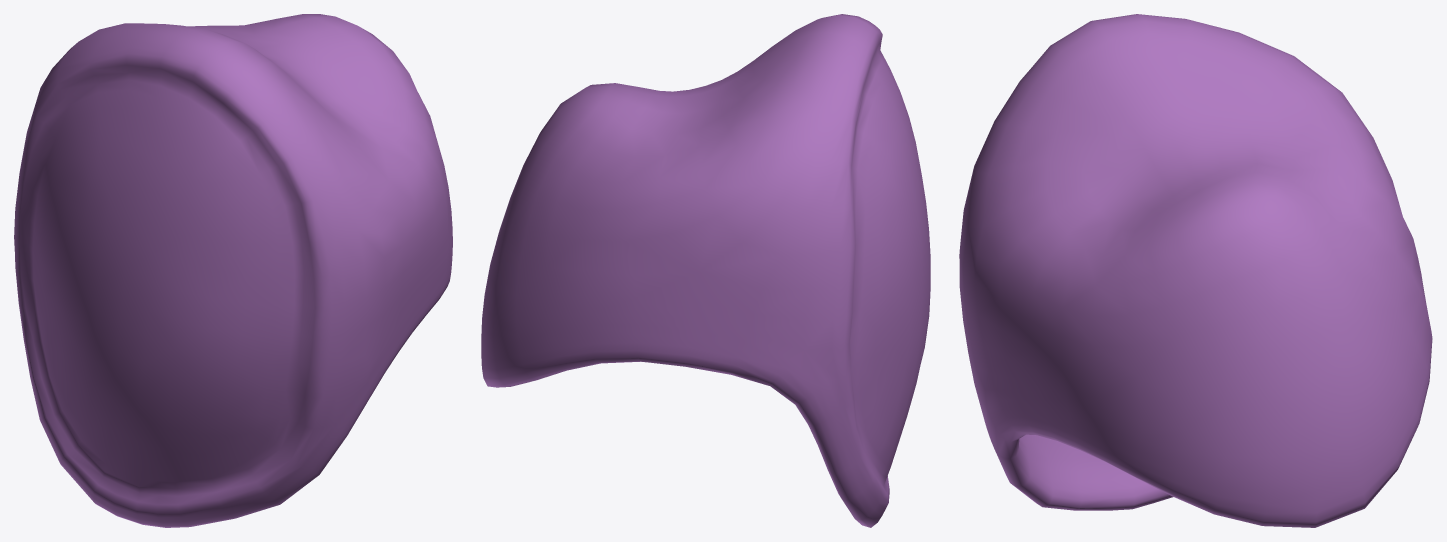
File: BL4_Enamel_Prongs.001.glb
3 renders of one model, left to right at view 1: azimuth 30°, elevation 25°; view 2: azimuth 150°, elevation 25°; view 3: azimuth 270°, elevation 25°, orthographic. The views are drawn at different scales.
Parts seen in each view (by area): view 1: BL4_Enamel_Prongs.001; view 2: BL4_Enamel_Prongs.001; view 3: BL4_Enamel_Prongs.001.
Part boxes in pixels (x1,y1,x2,y2): BL4_Enamel_Prongs.001: [14, 14, 452, 527]; BL4_Enamel_Prongs.001: [481, 14, 930, 527]; BL4_Enamel_Prongs.001: [959, 14, 1432, 527].
Size of the model in its own units: 0.8037 by 0.9584 by 0.8144.
